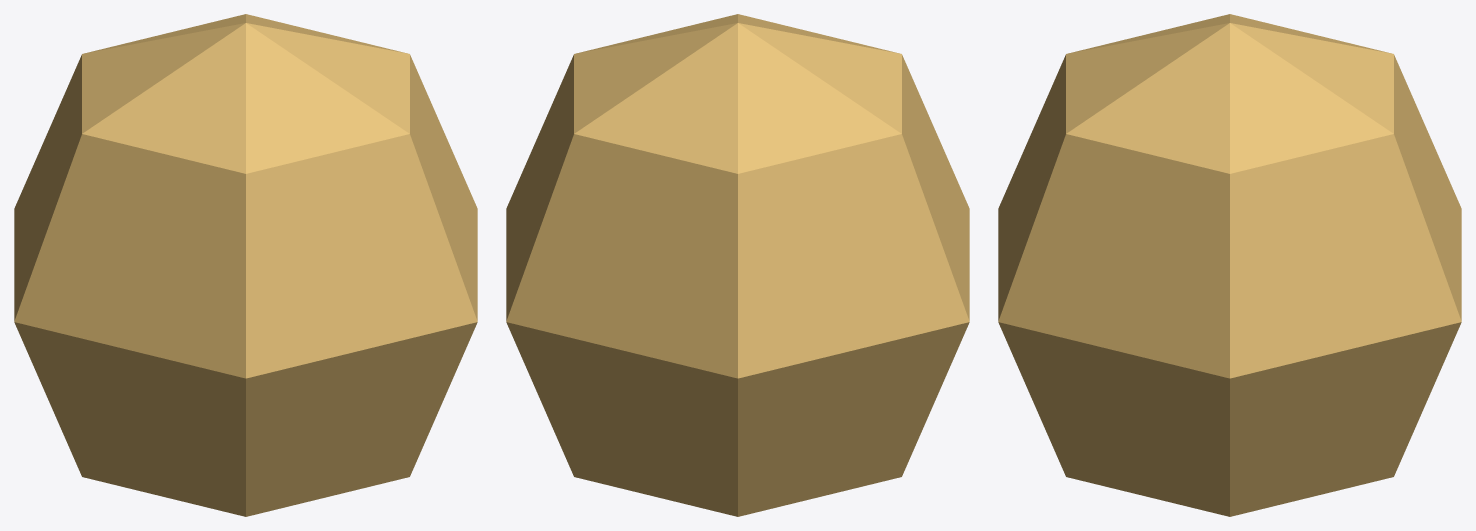
The model's file is KK_CrystalC.fbx.
The picture shows the model from 3 angles, left to right: view 1: azimuth 30°, elevation 25°; view 2: azimuth 150°, elevation 25°; view 3: azimuth 270°, elevation 25°; orthographic projection.
Parts seen in each view (by area): view 1: pSphere2; view 2: pSphere2; view 3: pSphere2.
Part boxes in pixels (x1,y1,x2,y2): pSphere2: (14, 14, 477, 516); pSphere2: (506, 14, 969, 516); pSphere2: (998, 14, 1461, 516).
Size of the model in its own units: 2 by 2 by 1.73.
